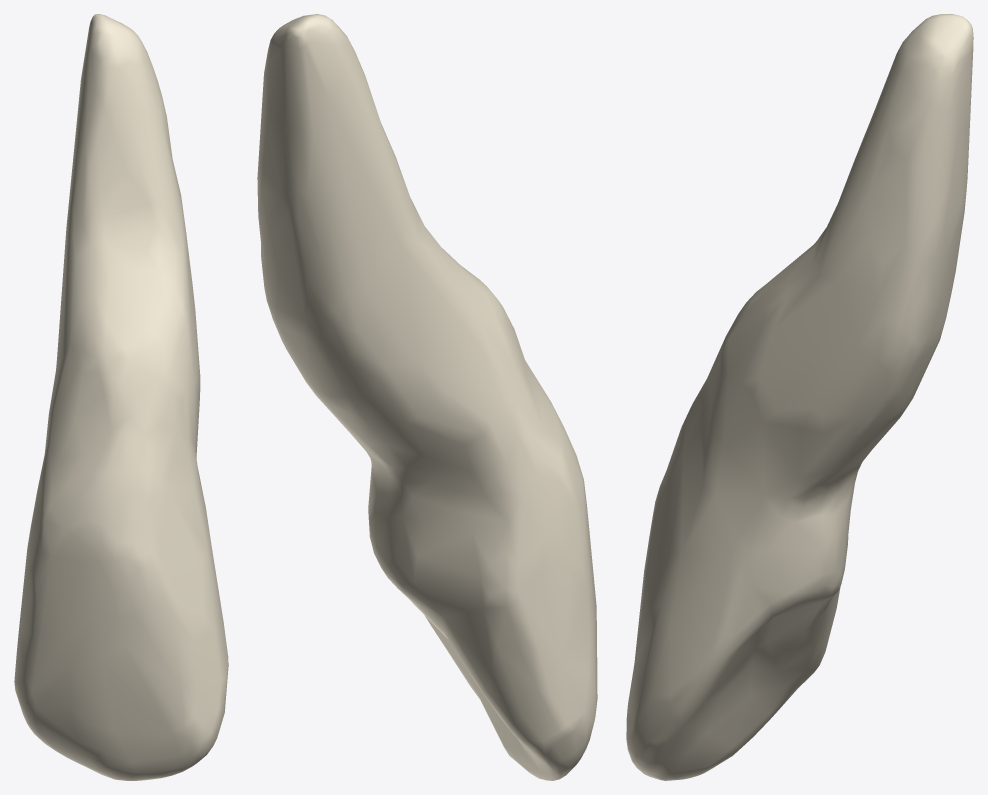
File: tooth-12.glb
3 renders of one model, left to right at view 1: azimuth 30°, elevation 25°; view 2: azimuth 150°, elevation 25°; view 3: azimuth 270°, elevation 25°, orthographic. The views are drawn at different scales.
Parts seen in each view (by area): view 1: tooth-12; view 2: tooth-12; view 3: tooth-12.
Part boxes in pixels (x1,y1,x2,y2): tooth-12: [14, 14, 228, 780]; tooth-12: [257, 14, 597, 780]; tooth-12: [626, 14, 973, 780].
Bounding box in the file's own units: 0.2394 × 0.723 × 0.2829.
